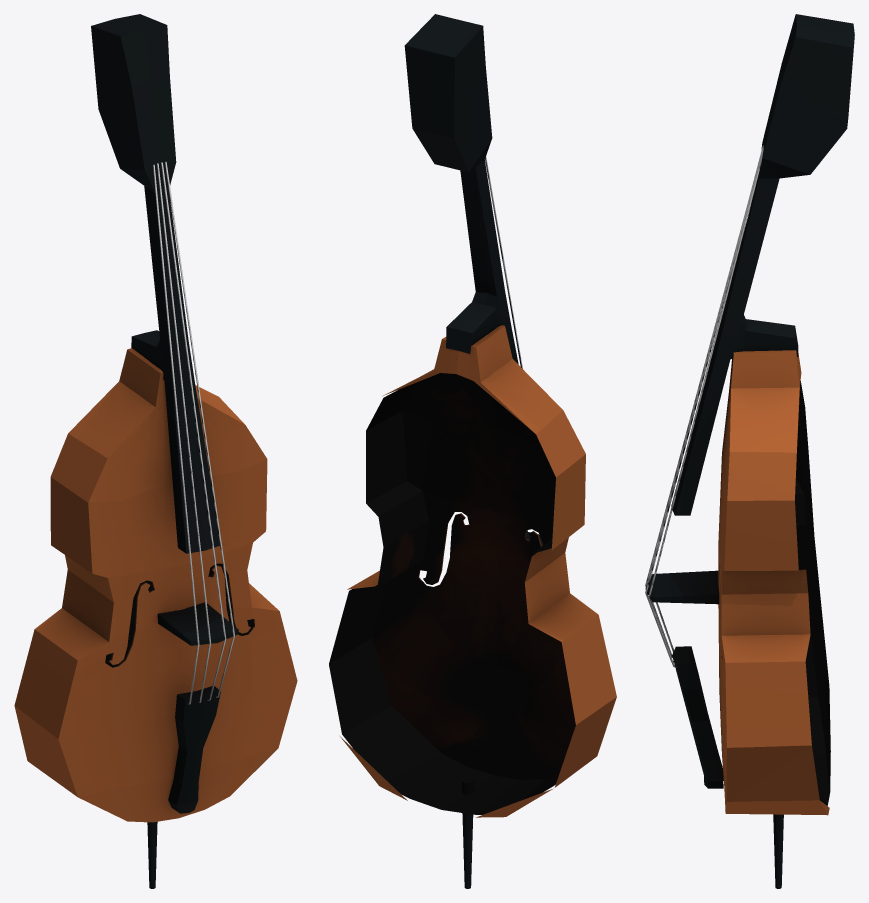
Rendered from bassV.glb.
3 views of the same model, side by side, from view 1: azimuth 30°, elevation 25°; view 2: azimuth 150°, elevation 25°; view 3: azimuth 270°, elevation 25° (orthographic). The views are drawn at different scales.
Parts seen in each view (by area): view 1: Cube_Hollow; view 2: Cube_Hollow; view 3: Cube_Hollow.
Boxes of the visible parts, x1=… form: Cube_Hollow: x1=14, y1=14, x2=297, y2=888; Cube_Hollow: x1=329, y1=14, x2=616, y2=888; Cube_Hollow: x1=645, y1=14, x2=854, y2=888.
Bounding box in the file's own units: 2.93 × 9.8 × 2.16.
Materials: 1 (1 with a texture image).
